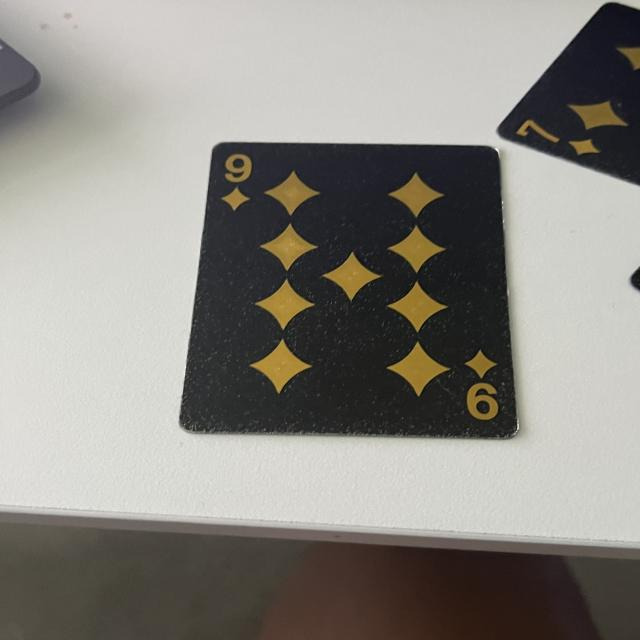7D: (516, 120, 608, 162)
9D: (462, 347, 505, 421), (221, 149, 254, 214)
